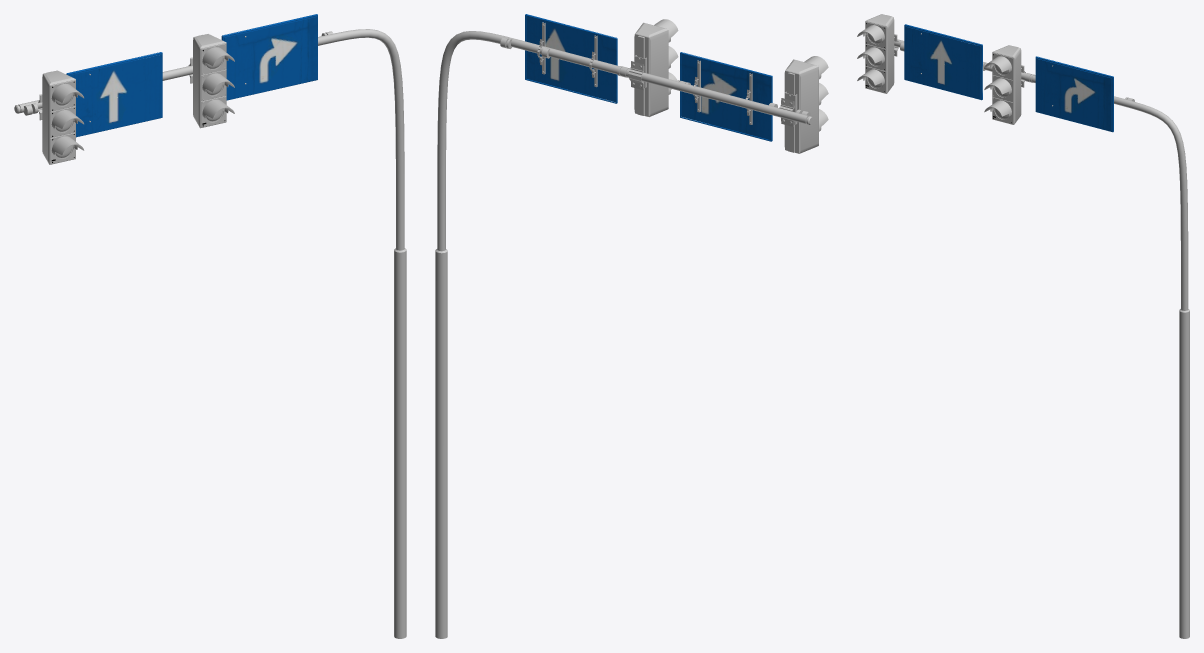
File: honglvdeng1.FBX
3 views of the same model, side by side, from view 1: azimuth 30°, elevation 25°; view 2: azimuth 150°, elevation 25°; view 3: azimuth 330°, elevation 25° (orthographic). The views are drawn at different scales.
Parts seen in each view (by area): view 1: Obj3d66-577014-675-290, Obj3d66-577014-596-915, Obj3d66-577014-592-515, Obj3d66-577014-602-865, Obj3d66-577014-591-203; view 2: Obj3d66-577014-675-290, Obj3d66-577014-596-915, Obj3d66-577014-592-515, Obj3d66-577014-602-865, Obj3d66-577014-591-203; view 3: Obj3d66-577014-675-290, Obj3d66-577014-596-915, Obj3d66-577014-592-515, Obj3d66-577014-591-203, Obj3d66-577014-602-865.
Boxes of the visible parts, x1=… form: Obj3d66-577014-675-290: x1=14, y1=29, x2=406, y2=638; Obj3d66-577014-596-915: x1=221, y1=14, x2=317, y2=100; Obj3d66-577014-592-515: x1=66, y1=52, x2=162, y2=137; Obj3d66-577014-602-865: x1=42, y1=70, x2=75, y2=164; Obj3d66-577014-591-203: x1=193, y1=34, x2=226, y2=128; Obj3d66-577014-675-290: x1=435, y1=31, x2=812, y2=638; Obj3d66-577014-596-915: x1=525, y1=14, x2=617, y2=103; Obj3d66-577014-592-515: x1=680, y1=52, x2=772, y2=141; Obj3d66-577014-602-865: x1=784, y1=59, x2=818, y2=153; Obj3d66-577014-591-203: x1=634, y1=22, x2=668, y2=116; Obj3d66-577014-675-290: x1=894, y1=39, x2=1189, y2=638; Obj3d66-577014-596-915: x1=1035, y1=56, x2=1113, y2=132; Obj3d66-577014-592-515: x1=904, y1=24, x2=982, y2=100; Obj3d66-577014-591-203: x1=992, y1=45, x2=1021, y2=124; Obj3d66-577014-602-865: x1=865, y1=14, x2=894, y2=93.
Bounding box in the file's own units: 280 × 455 × 43.91.
